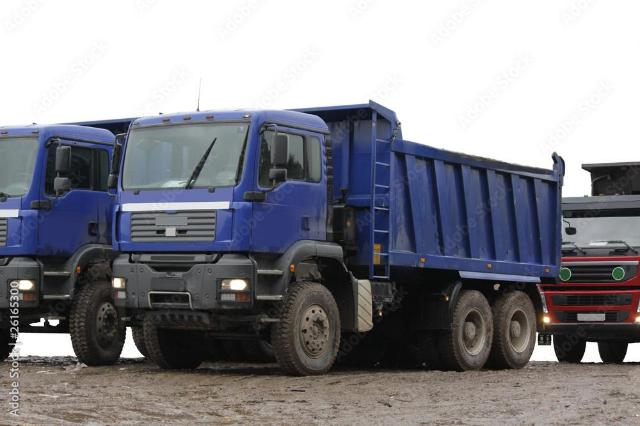truck: (116, 107, 555, 377)
